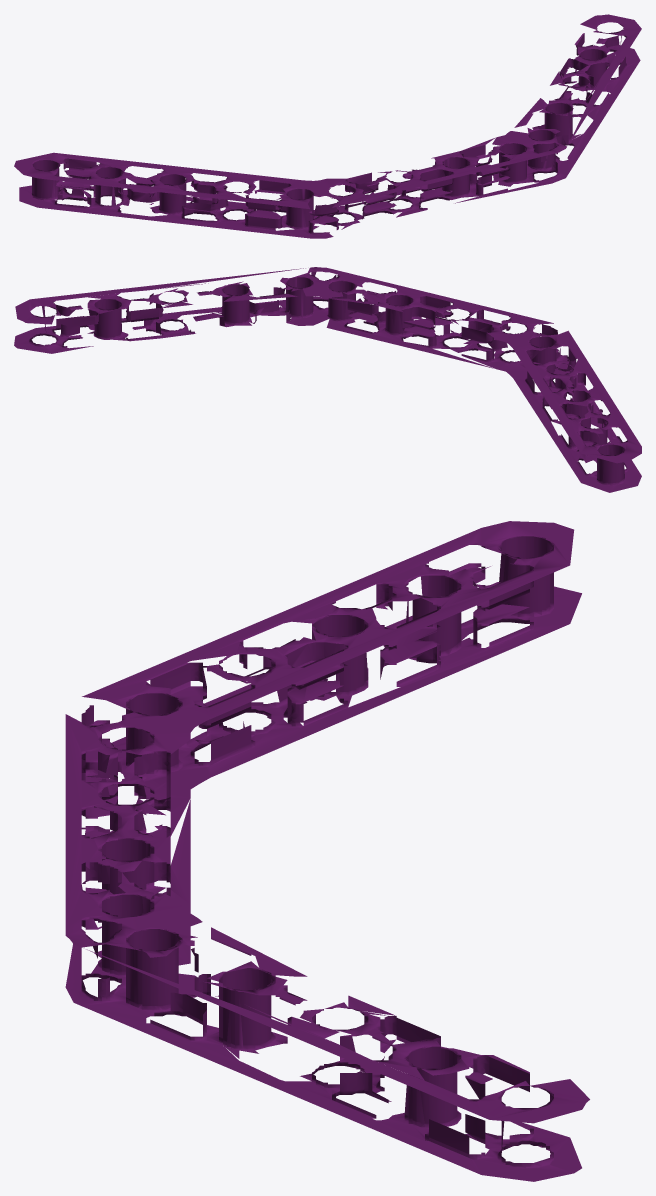
3 renders of one model, top to bottom at view 1: azimuth 30°, elevation 25°; view 2: azimuth 150°, elevation 25°; view 3: azimuth 270°, elevation 25°, orthographic. The views are drawn at different scales.
Visible parts, largest first — view 1: structure-0-4-0; view 2: structure-0-4-0; view 3: structure-0-4-0.
Part boxes in pixels (bbox=[...]): structure-0-4-0: bbox=[14, 14, 641, 238]; structure-0-4-0: bbox=[14, 267, 641, 492]; structure-0-4-0: bbox=[65, 521, 589, 1181].
Bounding box in the file's own units: 0.1375 × 0.00623 × 0.0506.
